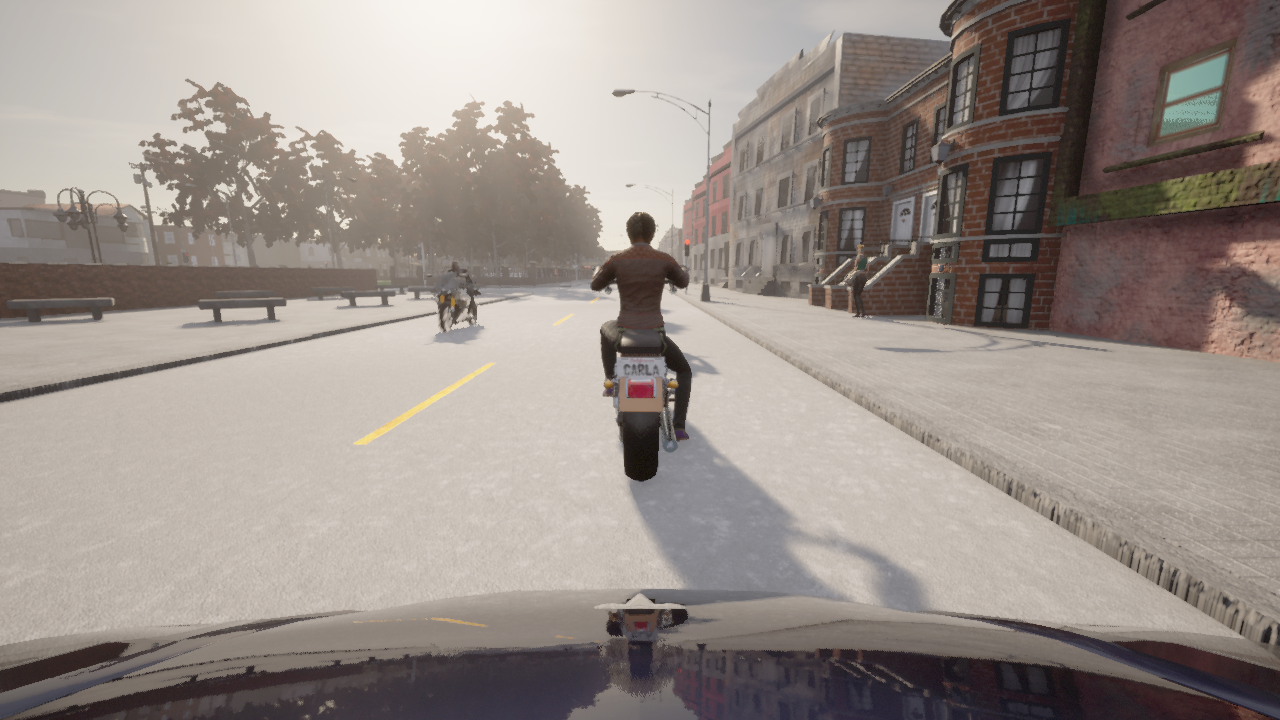cyclist: (0, 588, 1279, 719), (592, 265, 689, 480), (426, 272, 481, 332)
pedestrian: (845, 243, 869, 317), (553, 266, 559, 285)
